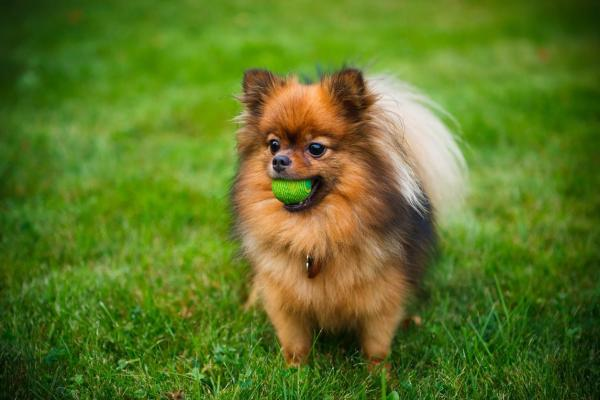pomeranian: (230, 61, 470, 372)
